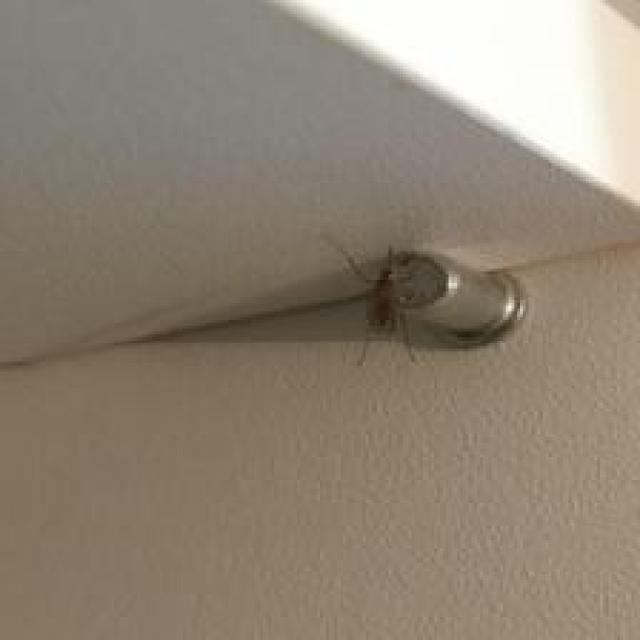Culex: (320, 232, 526, 368)
